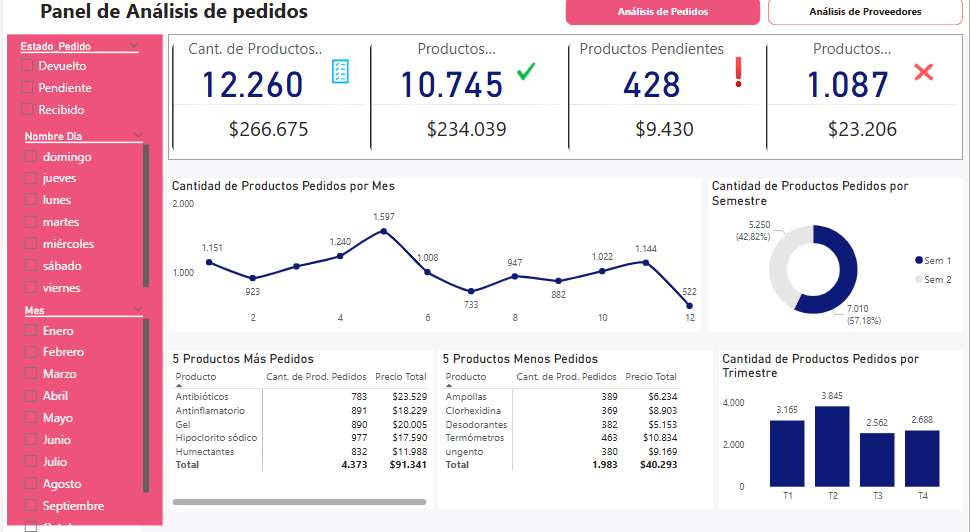

This screenshot's page, from the dashboard's own definition file:
{"tool":"powerbi","page":{"name":"Análisis de Pedidos","canvas":[1280,720],"ordinal":1},"visuals":[{"type":"textbox","box":[42.8,0,433.8,54.5],"z":0},{"type":"cardVisual","fields":{"Data":["Dax Medidas.Cant. de Productos Pedidos","Dax Medidas.Productos Recibidos","Dax Medidas.Productos Pendientes","Dax Medidas.Productos Devueltos"]},"box":[218,55,1053,167],"z":1000},{"type":"lineChart","title":"Cantidad de Productos Pedidos por Mes","fields":{"Category":["Calendario2.Mes Num"],"Y":["Dax Medidas.Cant. de Productos Pedidos"]},"box":[218,246,705,203],"z":2000},{"type":"donutChart","title":"Cantidad de Productos Pedidos por Semestre","fields":{"Category":["Calendario2.Semestre"],"Y":["Dax Medidas.Cant. de Productos Pedidos"]},"box":[934,246,337,203],"z":3000},{"type":"pivotTable","title":"5 Productos Más Pedidos","fields":{"Rows":["Productos4.Producto"],"Values":["Dax Medidas.Cant. de Productos Pedidos","Dax Medidas.Precio Total"]},"box":[218,474,351,210],"z":4000},{"type":"pivotTable","title":"5 Productos Menos Pedidos","fields":{"Rows":["Productos4.Producto"],"Values":["Dax Medidas.Cant. de Productos Pedidos","Dax Medidas.Precio Total"]},"box":[576,474,364,210],"z":5000},{"type":"clusteredColumnChart","title":"Cantidad de Productos Pedidos por Trimestre","fields":{"Category":["Calendario2.Trimestre"],"Y":["Dax Medidas.Cant. de Productos Pedidos"]},"box":[948,474,323,210],"z":6000},{"type":"slicer","fields":{"Values":["Datos1.Estado_Pedido"]},"box":[9,58,182,128],"z":7000},{"type":"slicer","fields":{"Values":["Calendario2.Nombre Dia"]},"box":[15,176,182,231],"z":8000},{"type":"slicer","fields":{"Values":["Calendario2.Mes"]},"box":[15,407,182,313],"z":9000},{"type":"pageNavigator","box":[744.5,6.1,526.3,38.8],"z":10000}]}

Visuals, with their boxes in screenshot pixels (x1, y1, x2, y2), scaled from the page's 1280x720 canvas onto the 970x532 screenshot:
textbox: <bbox>32, 0, 361, 40</bbox>
cardVisual - Dax Medidas.Cant. de Productos Pedidos x Dax Medidas.Productos Recibidos: <bbox>165, 41, 963, 164</bbox>
"Cantidad de Productos Pedidos por Mes" lineChart: <bbox>165, 182, 699, 332</bbox>
"Cantidad de Productos Pedidos por Semestre" donutChart: <bbox>708, 182, 963, 332</bbox>
"5 Productos Más Pedidos" pivotTable: <bbox>165, 350, 431, 505</bbox>
"5 Productos Menos Pedidos" pivotTable: <bbox>436, 350, 712, 505</bbox>
"Cantidad de Productos Pedidos por Trimestre" clusteredColumnChart: <bbox>718, 350, 963, 505</bbox>
slicer - Datos1.Estado_Pedido: <bbox>7, 43, 145, 137</bbox>
slicer - Calendario2.Nombre Dia: <bbox>11, 130, 149, 301</bbox>
slicer - Calendario2.Mes: <bbox>11, 301, 149, 531</bbox>
pageNavigator: <bbox>564, 5, 963, 33</bbox>
